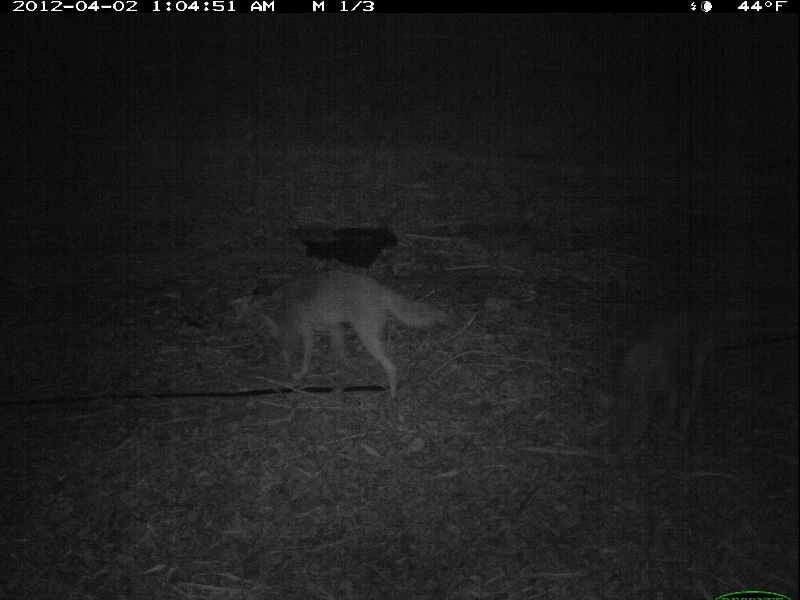coyote: (266, 269, 451, 407), (614, 307, 719, 439)
